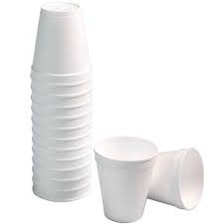paper_cup: (25, 0, 100, 207), (90, 131, 162, 223), (131, 143, 208, 212)
